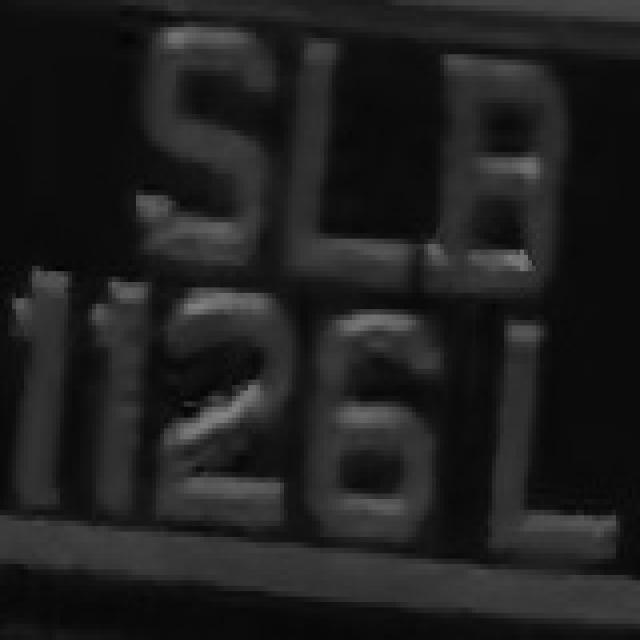1: (76, 266, 160, 553), (4, 260, 68, 542)
2: (152, 271, 304, 548)
6: (300, 266, 440, 564)
B: (428, 27, 560, 309)
L: (476, 298, 628, 580), (280, 17, 432, 298)
S: (124, 0, 276, 282)
